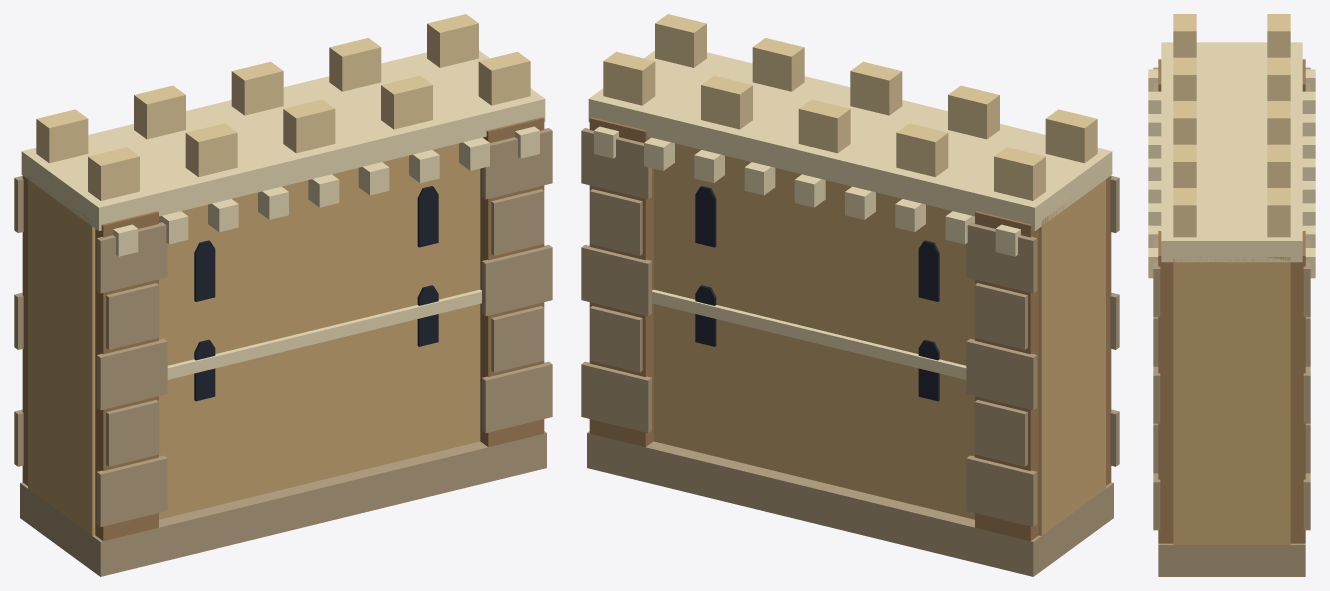
The model's file is wall_straight.fbx.
3 renders of one model, left to right at view 1: azimuth 30°, elevation 25°; view 2: azimuth 150°, elevation 25°; view 3: azimuth 270°, elevation 25°, orthographic. The views are drawn at different scales.
Visible parts, largest first — view 1: wall_straight; view 2: wall_straight; view 3: wall_straight.
Part boxes in pixels (x1,y1,x2,y2): wall_straight: (14, 14, 552, 576); wall_straight: (581, 14, 1119, 576); wall_straight: (1148, 14, 1315, 576).
Bounding box in the file's own units: 8.1 × 6.9 × 2.85.
1 material, 1 textured.
